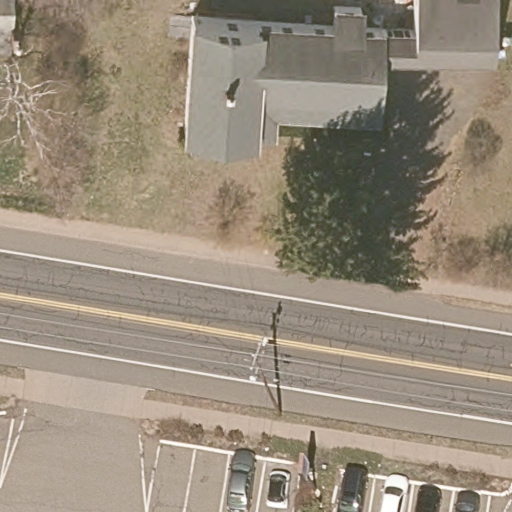DT: (249, 338, 283, 417)
